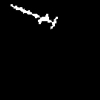double_crochet: (11, 4, 57, 27)
